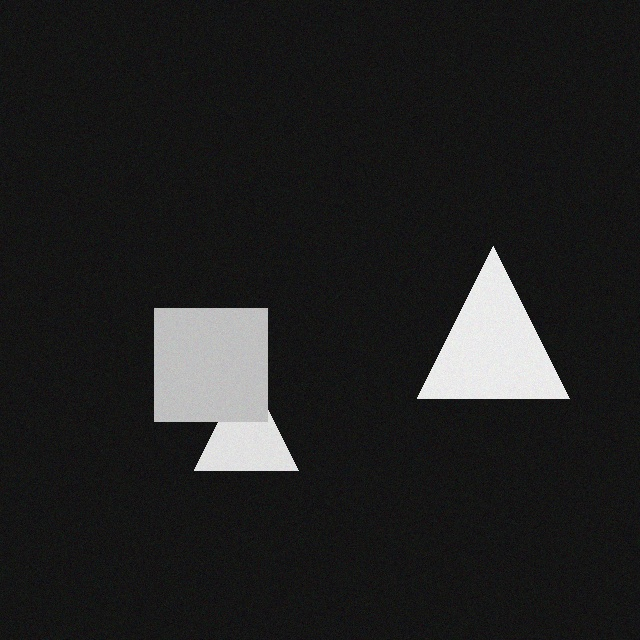square: (157, 323, 270, 436)
triangle: (420, 261, 572, 413), (197, 381, 301, 485)
